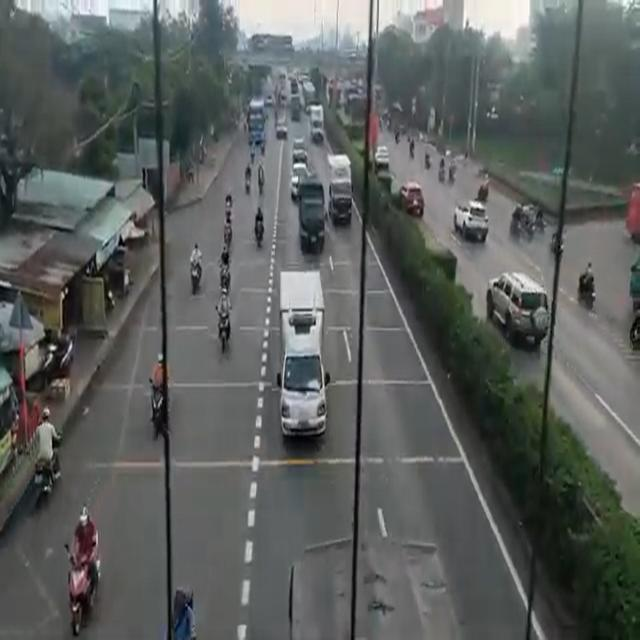bus: (250, 98, 262, 152)
car: (488, 272, 547, 342), (453, 204, 488, 236), (396, 182, 423, 215), (375, 145, 390, 169)
motor: (67, 508, 96, 629), (36, 418, 57, 503), (150, 358, 166, 442), (576, 260, 596, 320), (216, 291, 234, 353), (187, 236, 202, 298), (512, 194, 522, 243), (254, 208, 264, 253), (222, 212, 234, 249)
truck: (278, 271, 328, 439), (300, 178, 324, 250), (327, 153, 351, 225), (312, 102, 322, 138)
